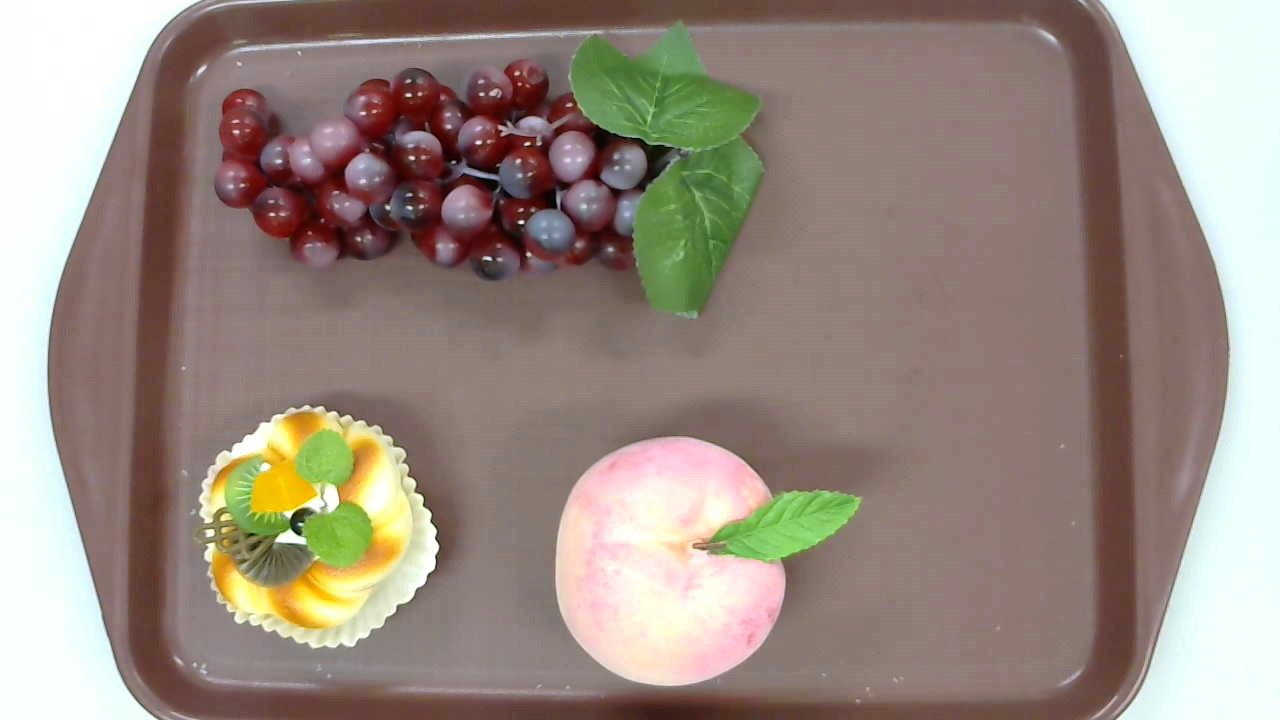fruit tart: (193, 404, 439, 651)
grape: (214, 20, 766, 318)
peach: (555, 435, 861, 686)
